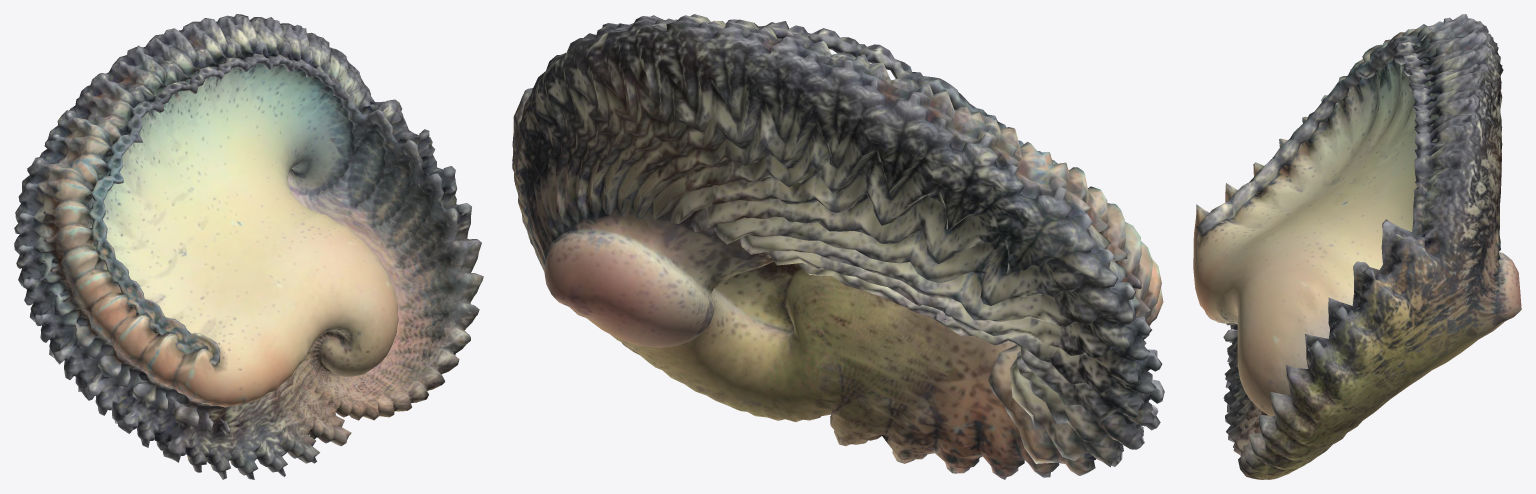
Rendered from FeatherShell.gltf.
The picture shows the model from 3 angles, left to right: view 1: azimuth 30°, elevation 25°; view 2: azimuth 150°, elevation 25°; view 3: azimuth 270°, elevation 25°; orthographic projection. The views are drawn at different scales.
Visible parts, largest first — view 1: node-0; view 2: node-0; view 3: node-0.
Part boxes in pixels (x1=…): node-0: x1=14, y1=14, x2=483, y2=479; node-0: x1=512, y1=14, x2=1164, y2=479; node-0: x1=1193, y1=14, x2=1521, y2=479.
Size of the model in its own units: 727 by 600 by 440.
1 material, 1 textured.
